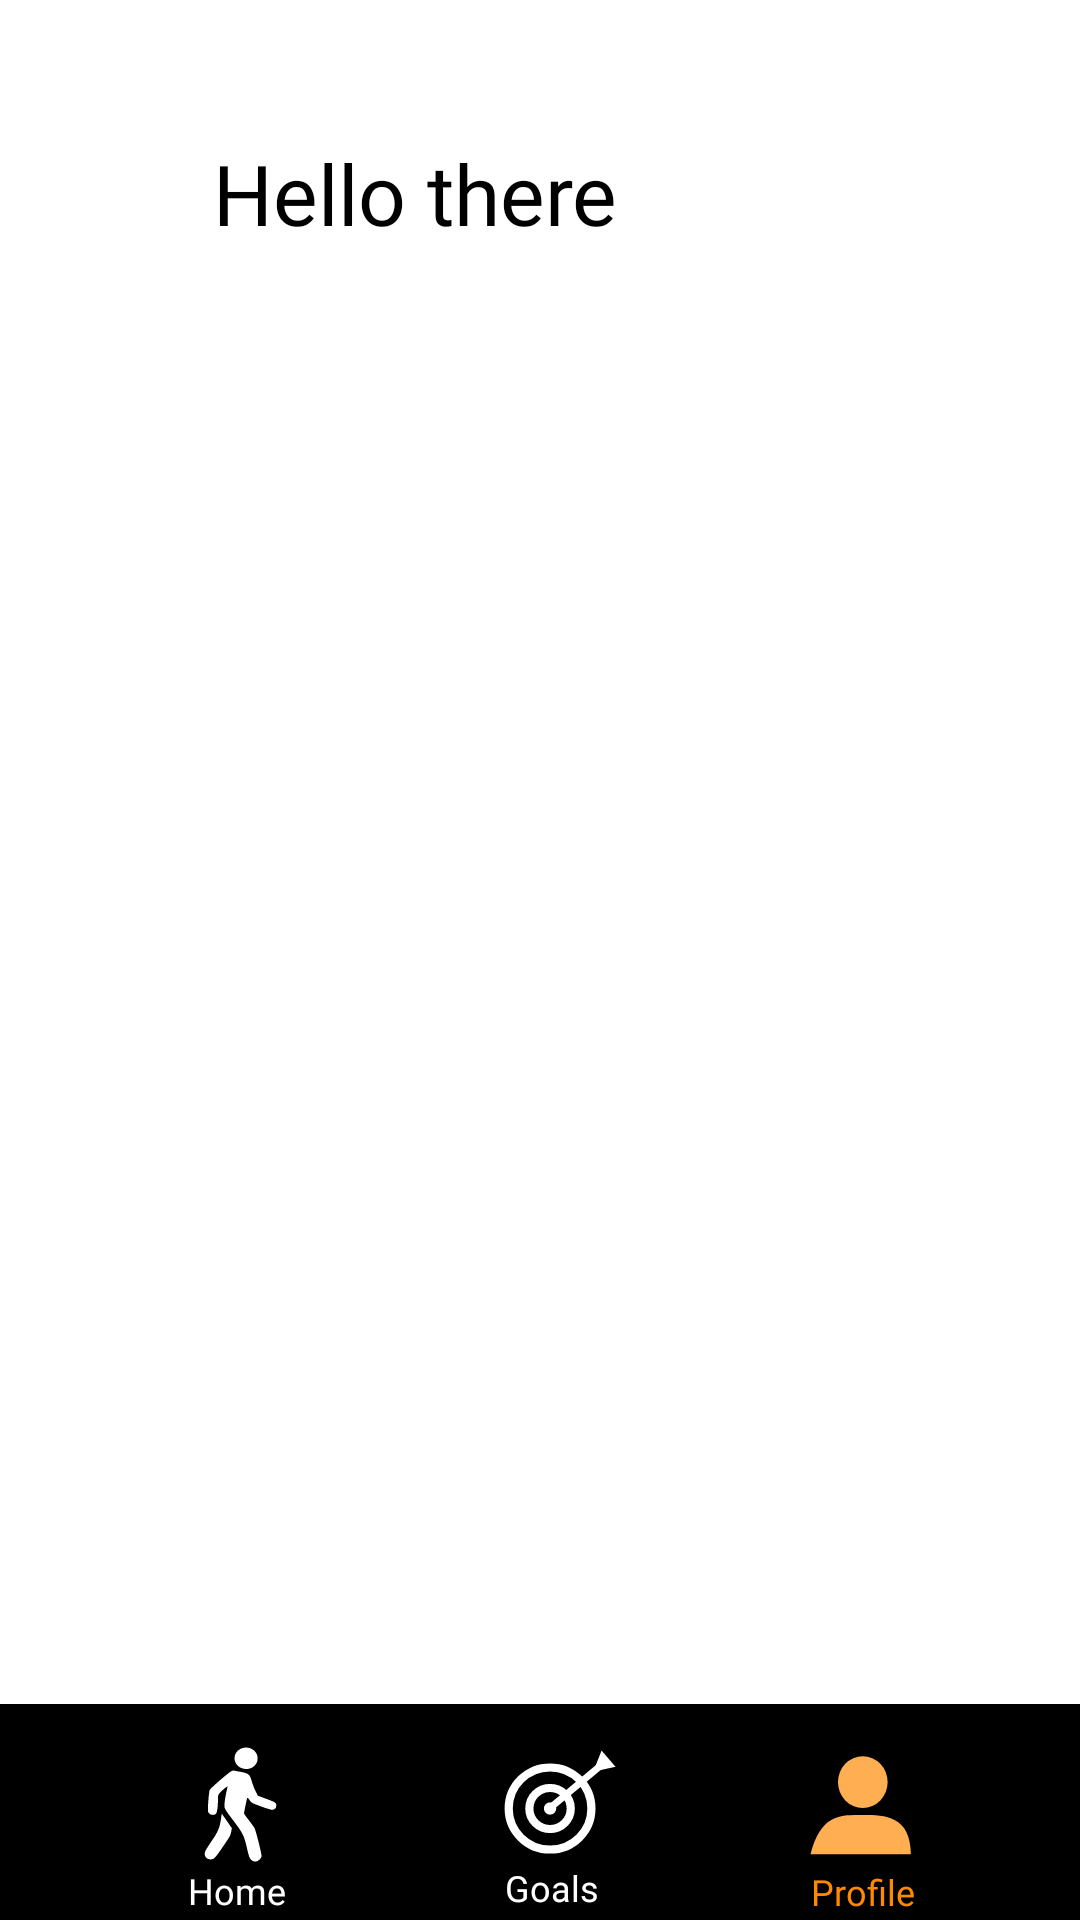

Point at icon controls on the screen. Image size 1080 × 1920, points as point (x, y).
walking: point (240, 1804)
